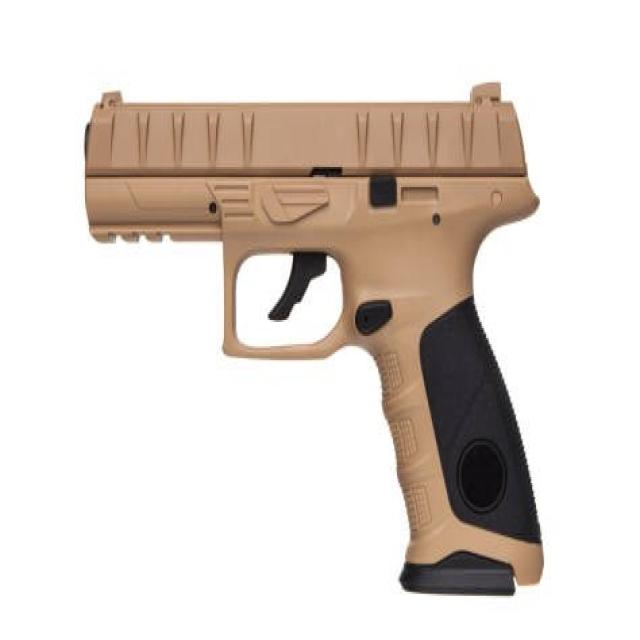pistol: (79, 66, 550, 617)
